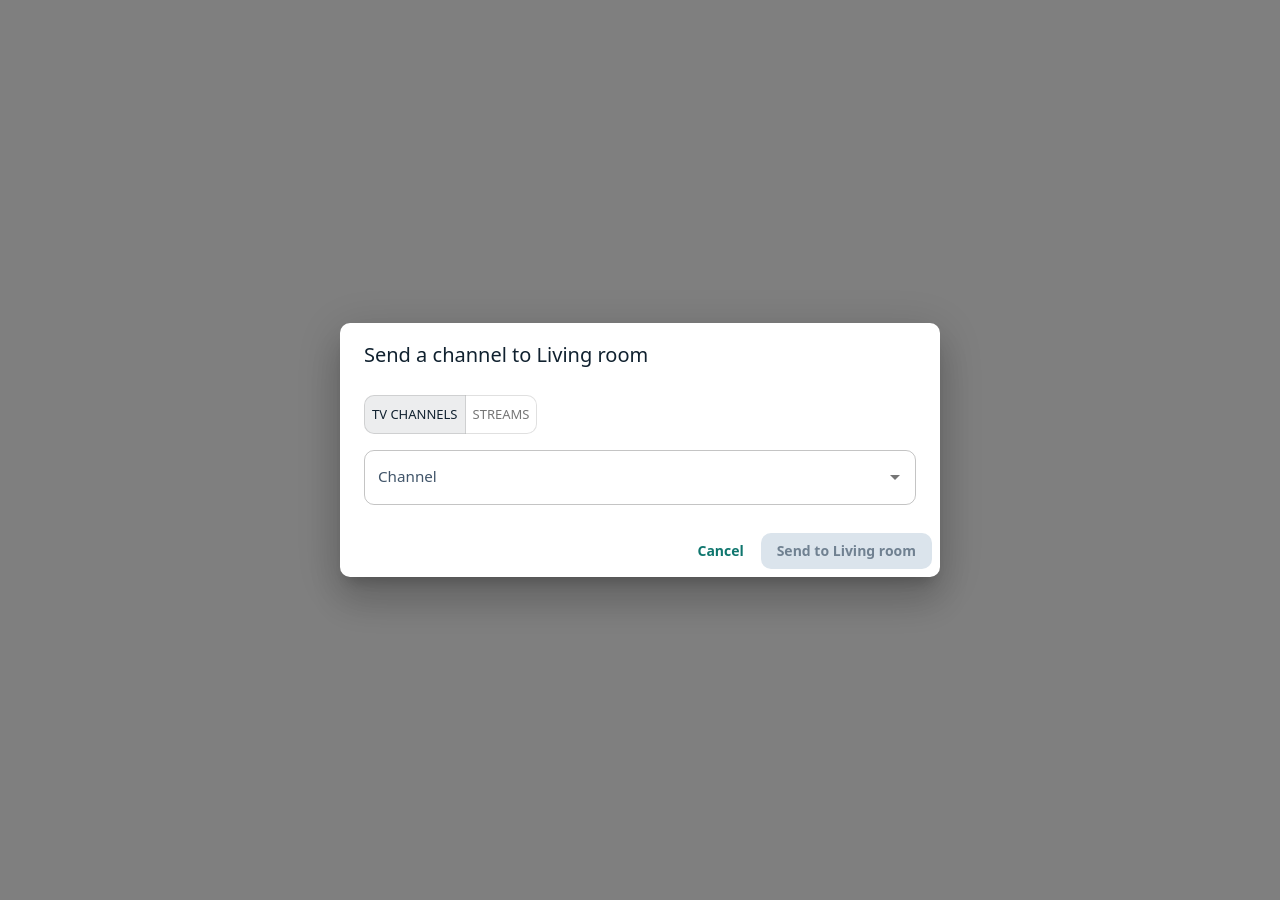
Test: ChannelPickerDialog › switches to raw streams
The image size is (1280, 900).
Click the button "Streams" at (501, 414), box [464,395,537,434]
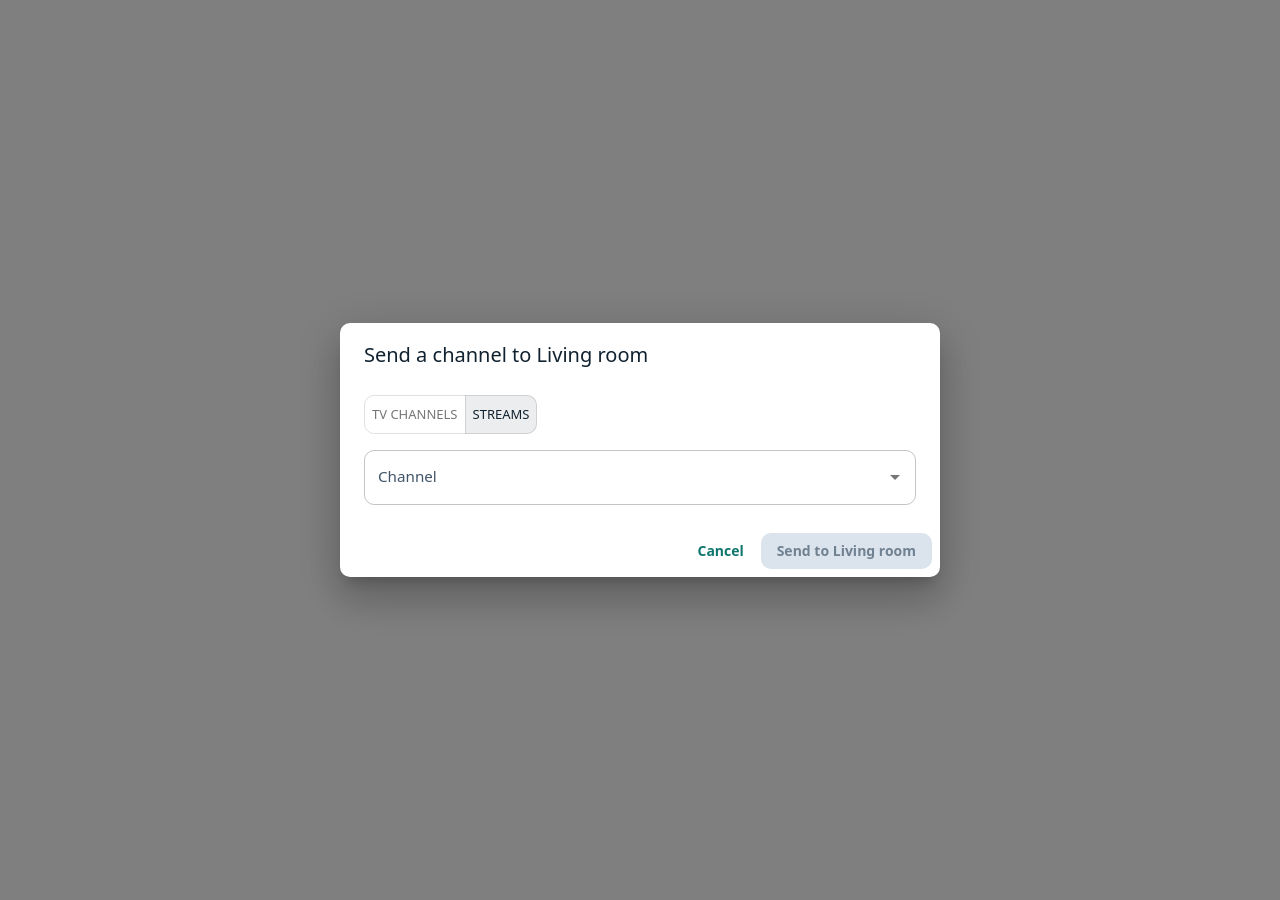
Press the mouse on the dropdown labelled "Channel" at (625, 477), box [373,459,877,496]
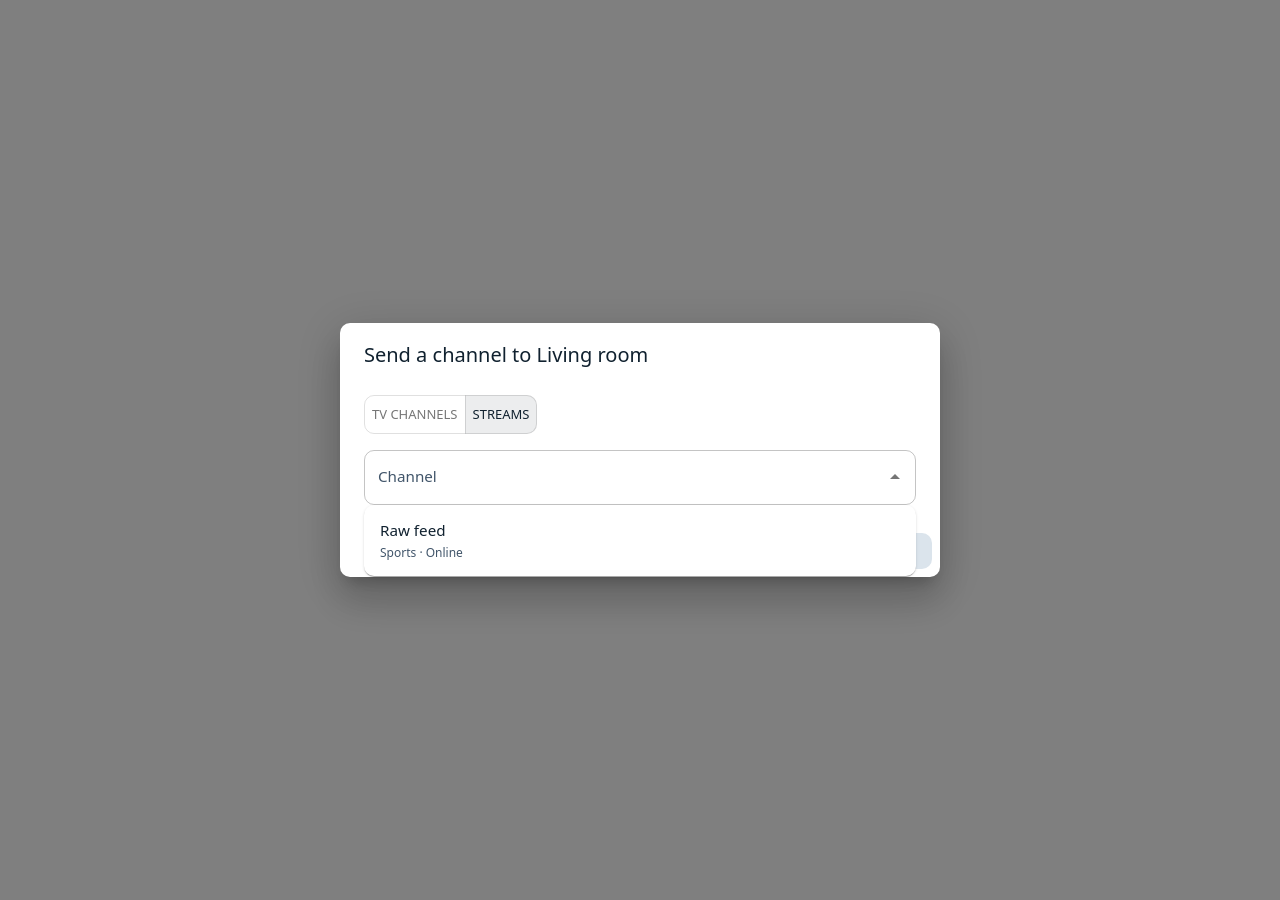
Result: the option "Raw feed Sports · Online" is shown at [380,520,463,561]
